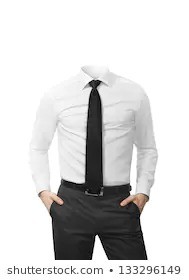F_belt: (55, 178, 132, 194)
F_dress pants: (52, 181, 150, 261)
F_shirt: (25, 65, 160, 203)
F_tie: (85, 79, 104, 199)
